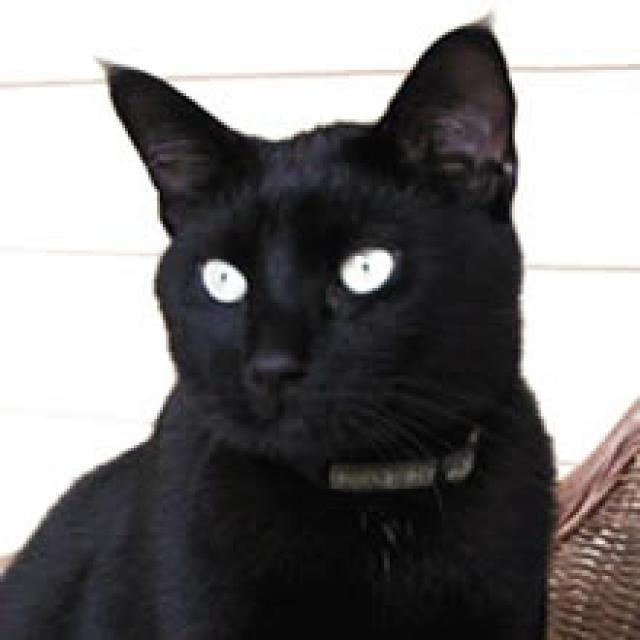Bombay: (74, 15, 543, 481)
